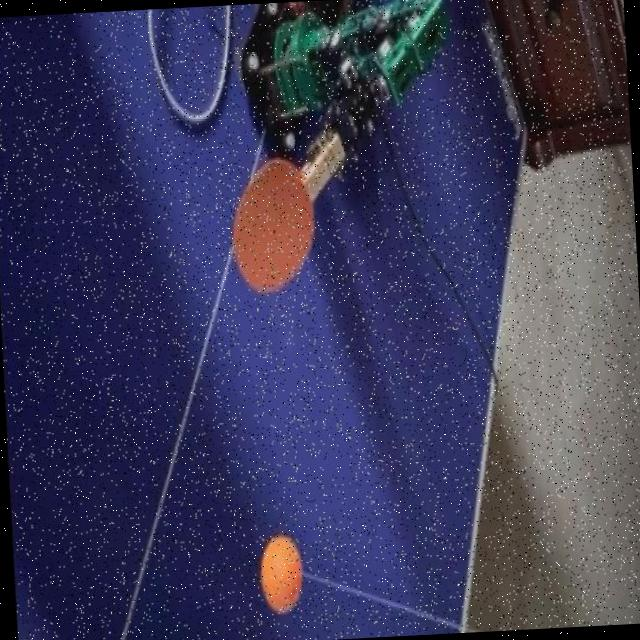ping-pong-ball: (256, 534, 304, 608)
